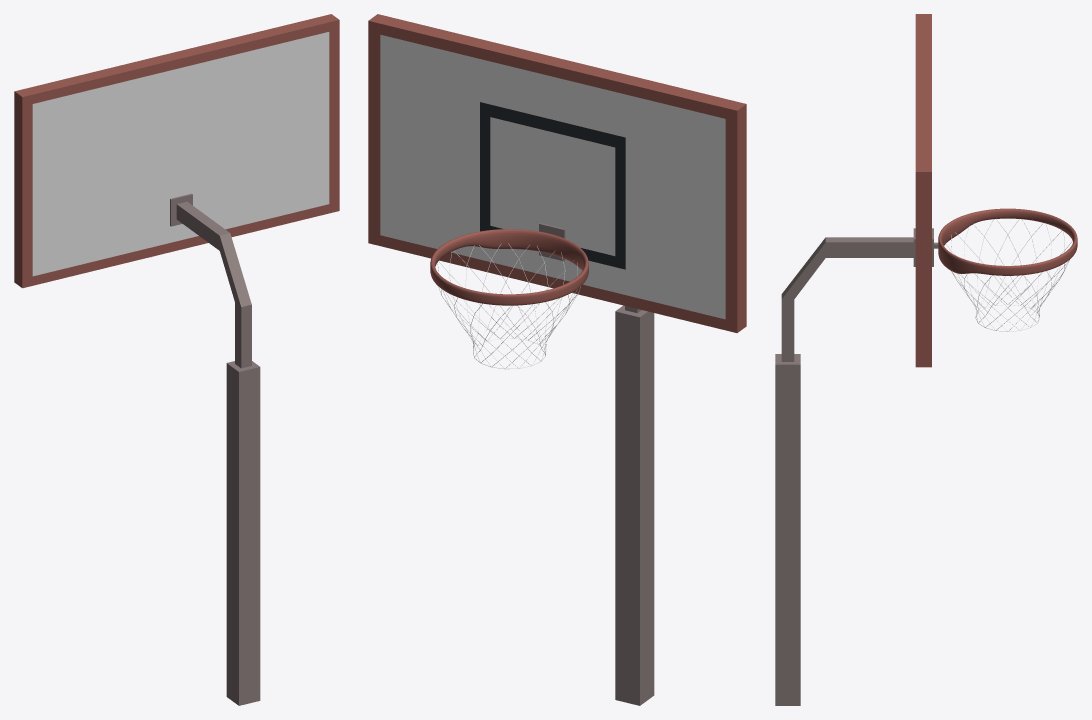
The model's file is Basketball_Stand.fbx.
The picture shows the model from 3 angles, left to right: view 1: azimuth 30°, elevation 25°; view 2: azimuth 150°, elevation 25°; view 3: azimuth 270°, elevation 25°; orthographic projection. The views are drawn at different scales.
Parts seen in each view (by area): view 1: Basketball_Board, Basketball_Pole; view 2: Basketball_Board, Basketball_Pole, Basketball_Hoop, Basketball_Net; view 3: Basketball_Pole, Basketball_Board, Basketball_Hoop, Basketball_Net.
Boxes of the visible parts, x1=… form: Basketball_Board: x1=14, y1=14, x2=339, y2=288; Basketball_Pole: x1=170, y1=193, x2=260, y2=705; Basketball_Board: x1=368, y1=14, x2=746, y2=332; Basketball_Pole: x1=539, y1=223, x2=654, y2=705; Basketball_Hoop: x1=430, y1=229, x2=588, y2=305; Basketball_Net: x1=437, y1=243, x2=580, y2=369; Basketball_Pole: x1=775, y1=228, x2=938, y2=705; Basketball_Board: x1=915, y1=14, x2=931, y2=367; Basketball_Hoop: x1=938, y1=208, x2=1077, y2=275; Basketball_Net: x1=945, y1=217, x2=1071, y2=331.
Bounding box in the file's own units: 406 × 728 × 328.
